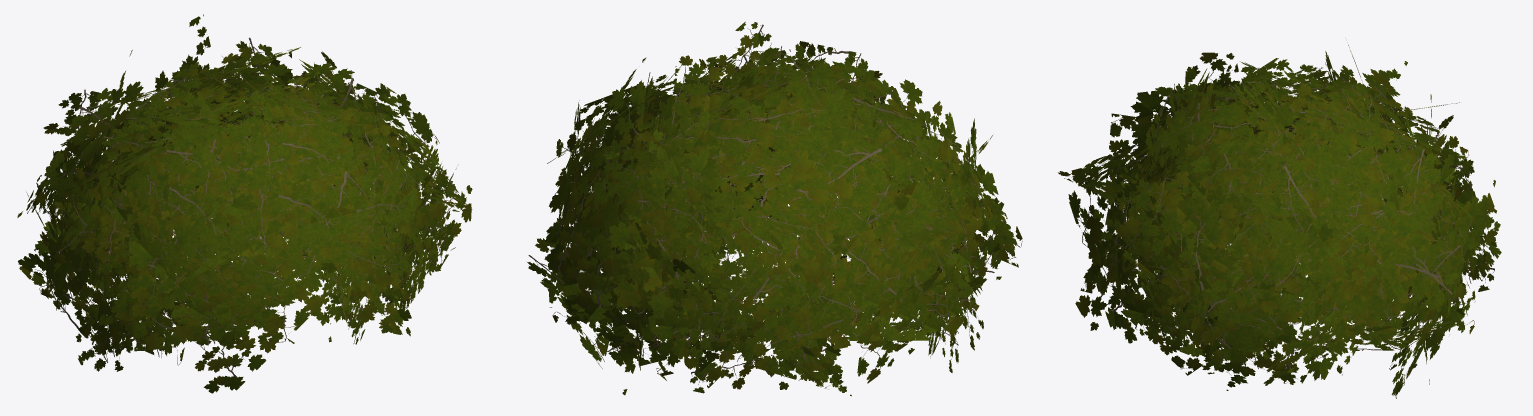
The model's file is pv_bush_large.fbx.
The picture shows the model from 3 angles, left to right: view 1: azimuth 30°, elevation 25°; view 2: azimuth 150°, elevation 25°; view 3: azimuth 270°, elevation 25°; orthographic projection. The views are drawn at different scales.
Parts seen in each view (by area): view 1: pv_bush_large_LOD0; view 2: pv_bush_large_LOD0; view 3: pv_bush_large_LOD0.
Boxes of the visible parts, bbox=[...] form: pv_bush_large_LOD0: bbox=[17, 14, 472, 393]; pv_bush_large_LOD0: bbox=[527, 21, 1022, 396]; pv_bush_large_LOD0: bbox=[1058, 45, 1501, 398].
Size of what is drawn, in the model's own units: 2.77 by 1.79 by 2.6.
